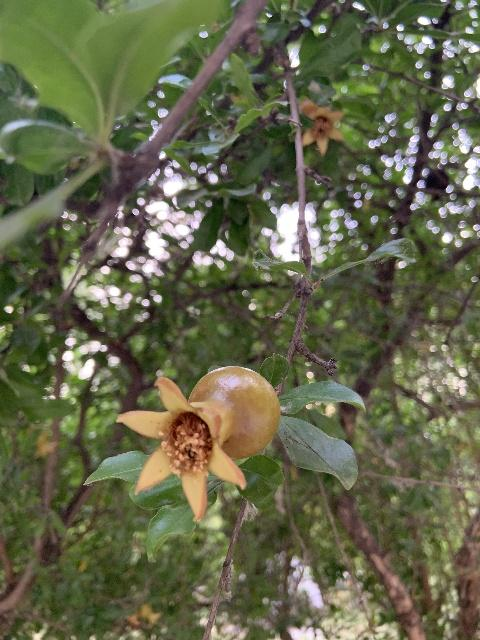early-fruit: (115, 365, 280, 522), (298, 97, 345, 156)
